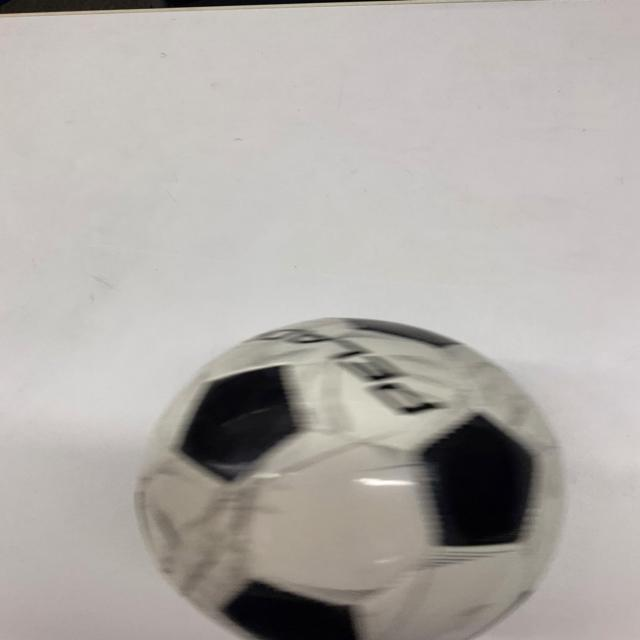ball: (138, 318, 562, 640)
